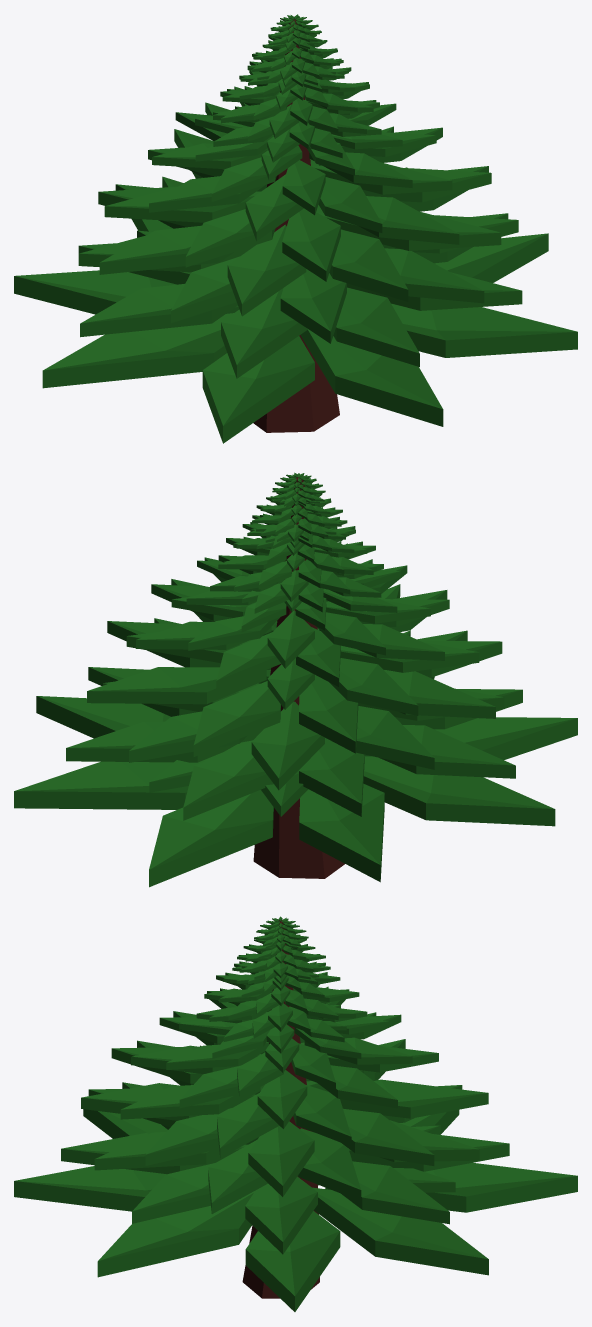
Rendered from arvore2.fbx.
3 renders of one model, top to bottom at view 1: azimuth 30°, elevation 25°; view 2: azimuth 150°, elevation 25°; view 3: azimuth 270°, elevation 25°, orthographic. The views are drawn at different scales.
Parts seen in each view (by area): view 1: Cube.234; view 2: Cube.234; view 3: Cube.234.
Part boxes in pixels (x1,y1,x2,y2): Cube.234: (14, 14, 577, 443); Cube.234: (14, 472, 577, 887); Cube.234: (14, 916, 577, 1311).
Size of the model in its own units: 797 by 580 by 820.
